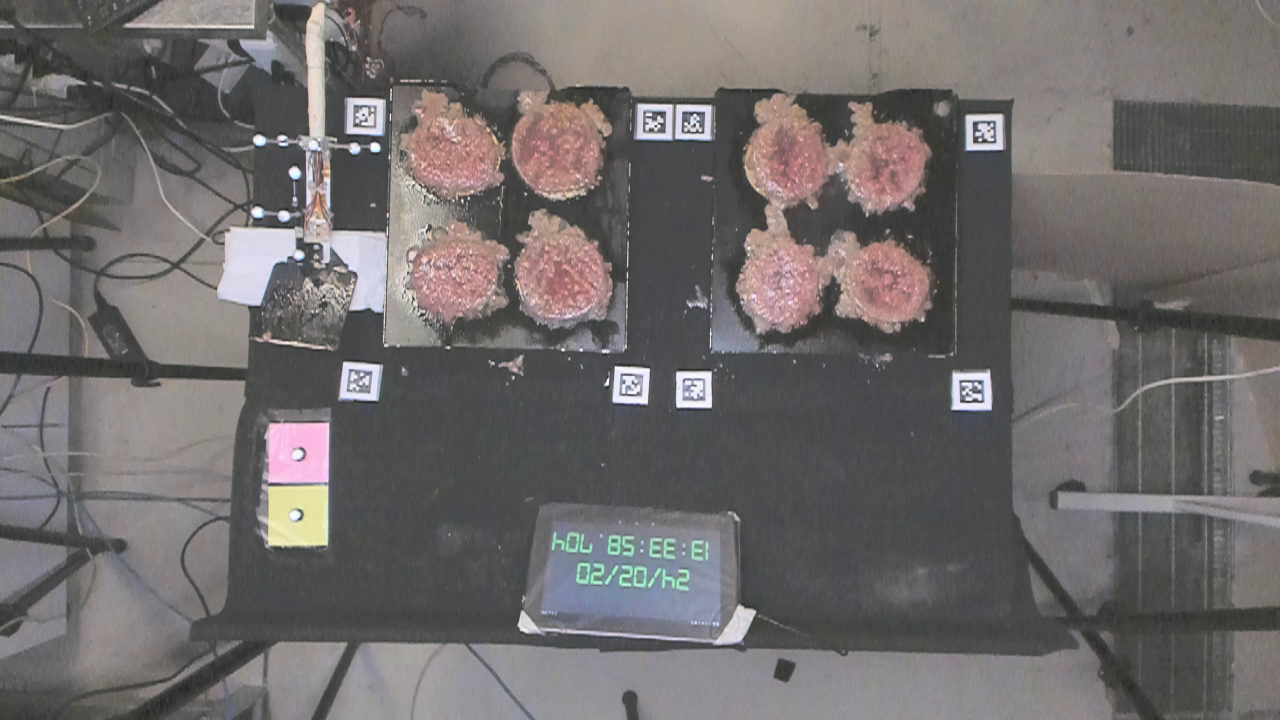hamburger: (509, 236, 614, 319), (407, 109, 502, 194), (731, 240, 822, 328), (742, 103, 822, 197), (521, 110, 606, 198), (842, 126, 927, 211), (846, 241, 929, 326), (414, 232, 500, 314)
marker: (264, 419, 334, 485)
